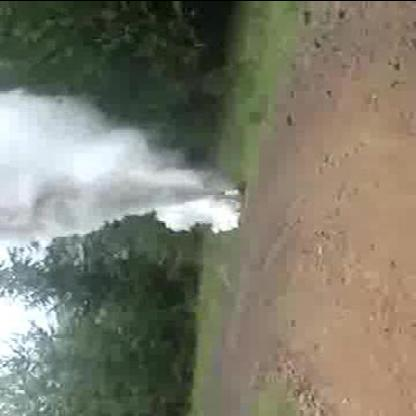Smoke: (0, 95, 229, 237)
